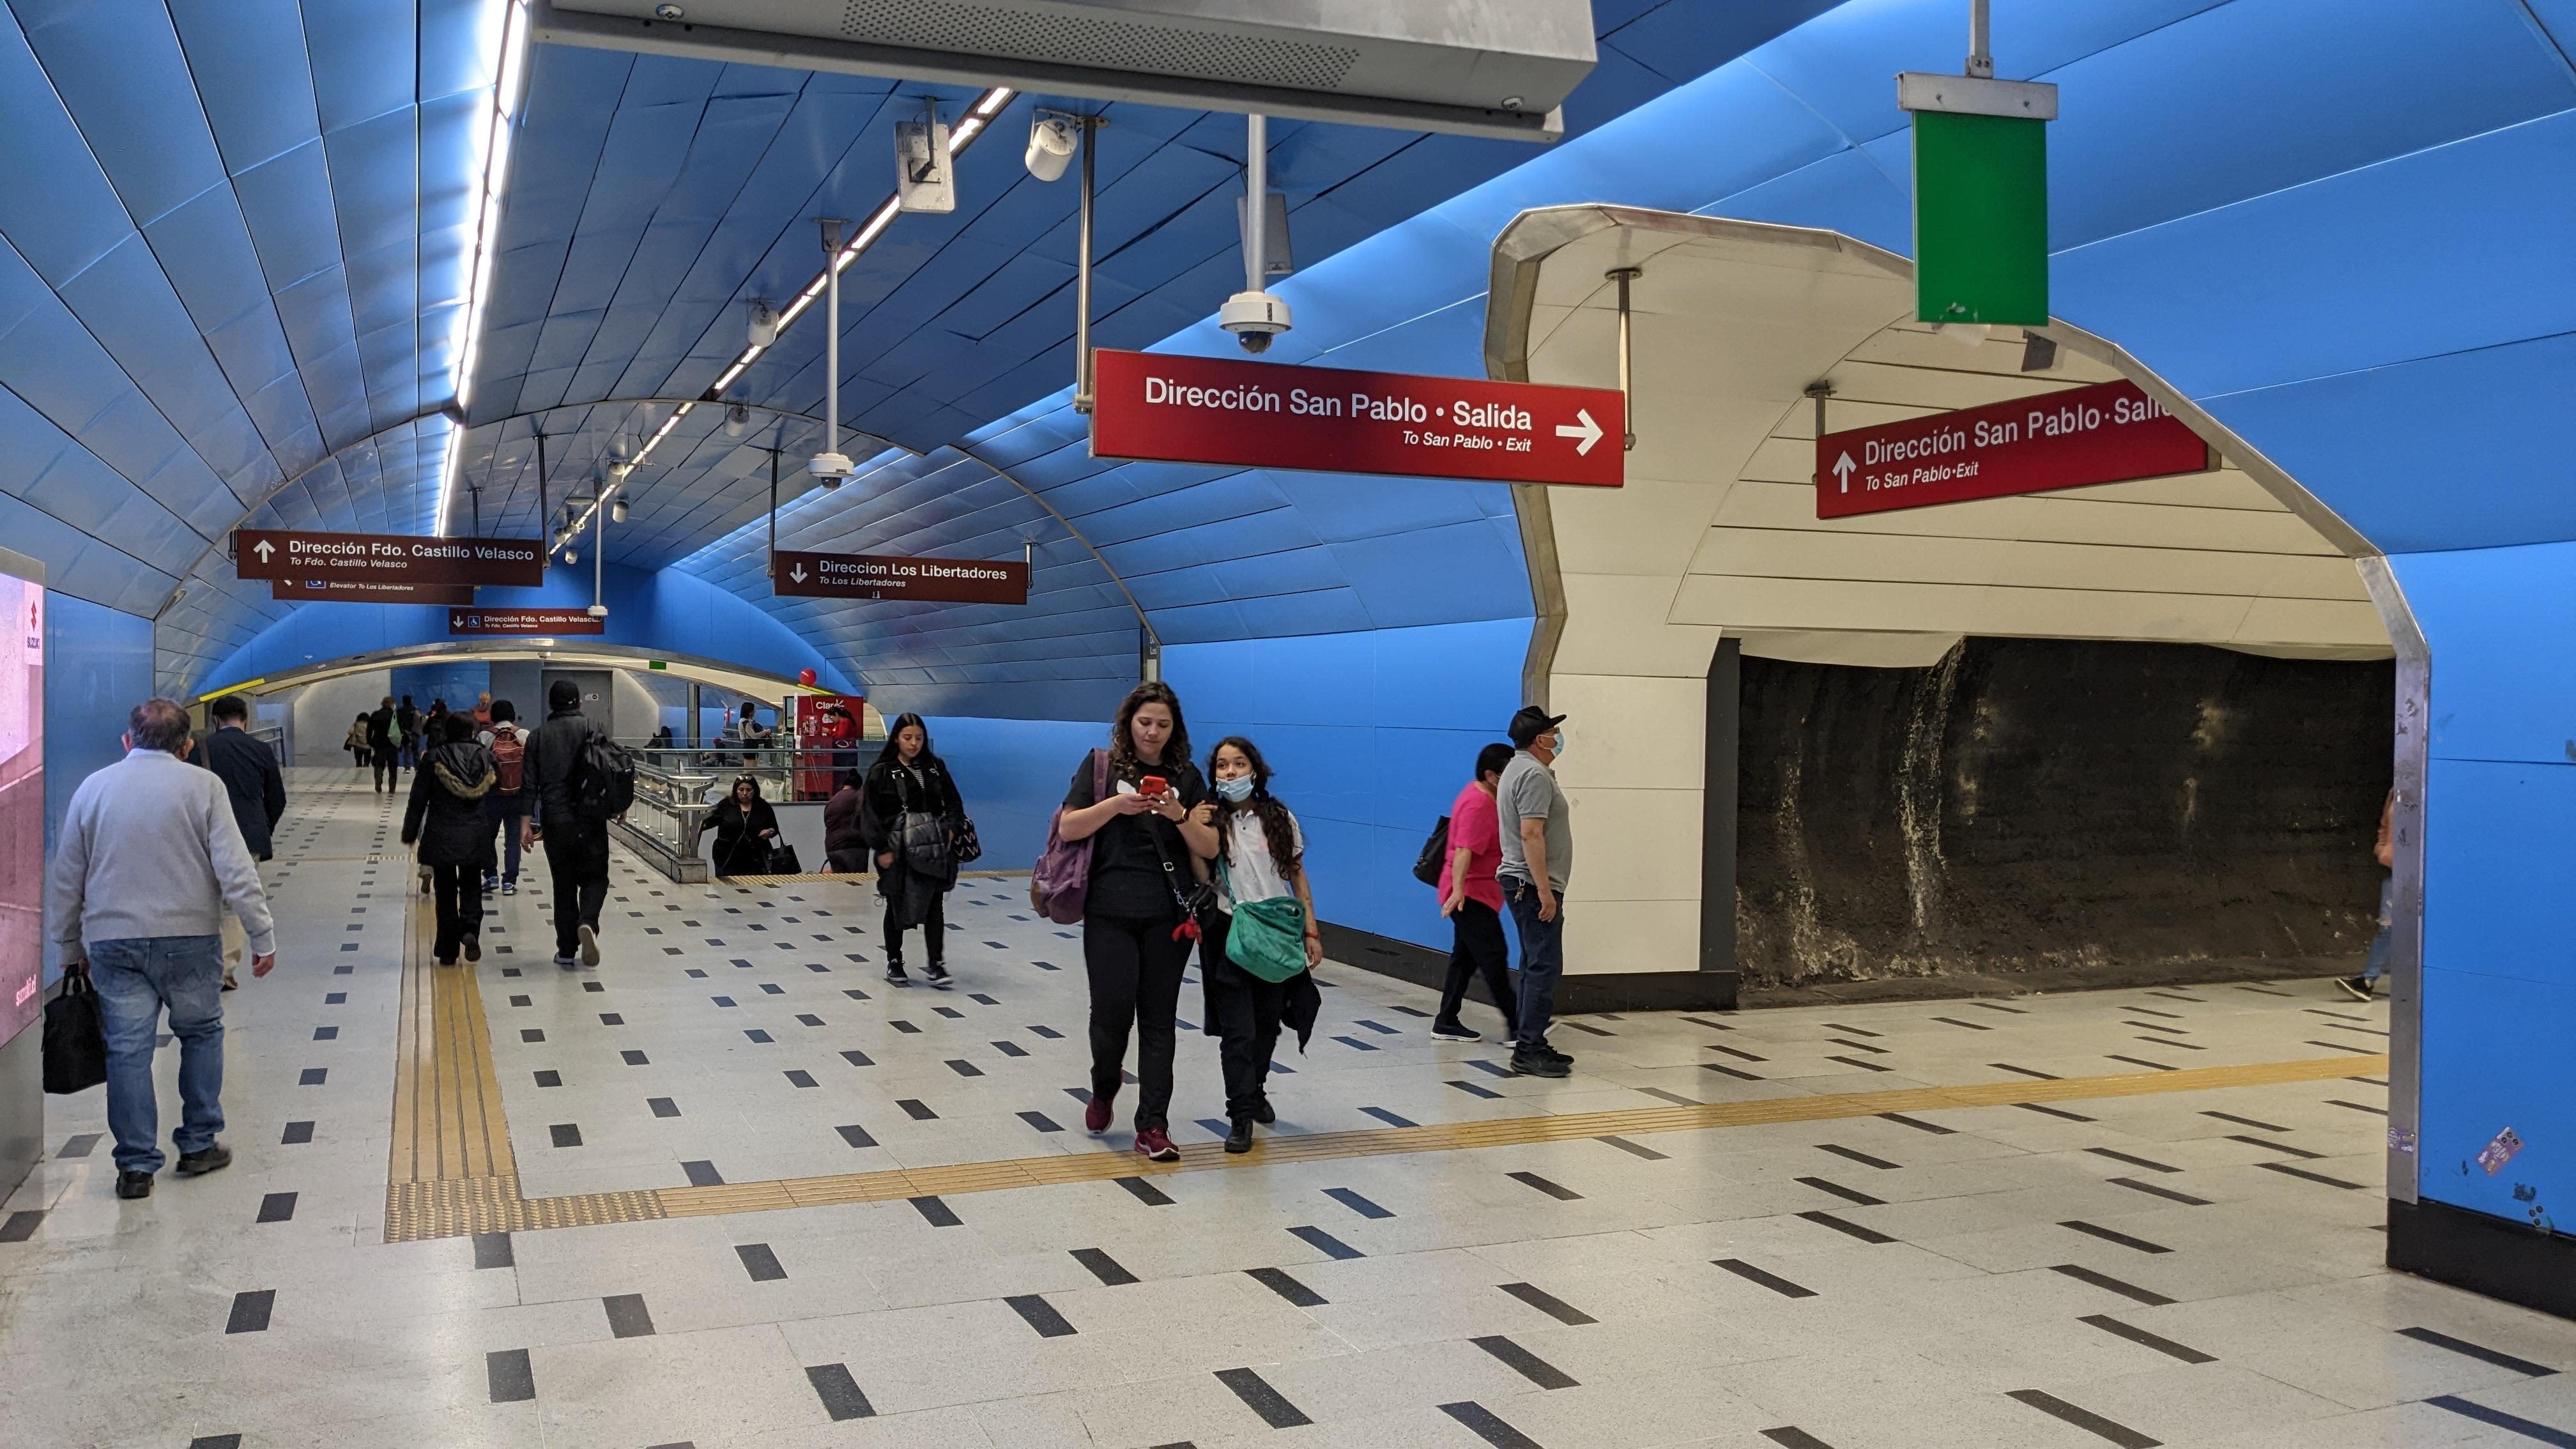down arrow: (789, 561, 809, 584), (453, 614, 465, 628)
handicapped symbol: (471, 617, 478, 626)
right arrow: (1553, 407, 1606, 458)
up arrow: (1829, 448, 1859, 497), (251, 538, 278, 564)
